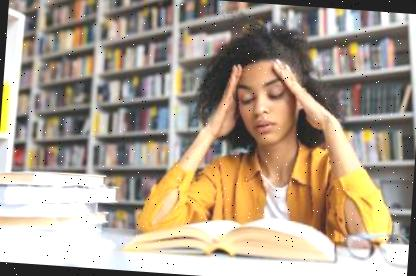person: (130, 7, 412, 258)
